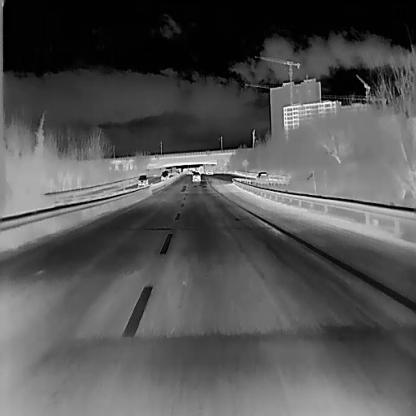car: (137, 174, 148, 185), (191, 172, 201, 182), (256, 172, 267, 180), (160, 172, 169, 180), (206, 168, 211, 174)
